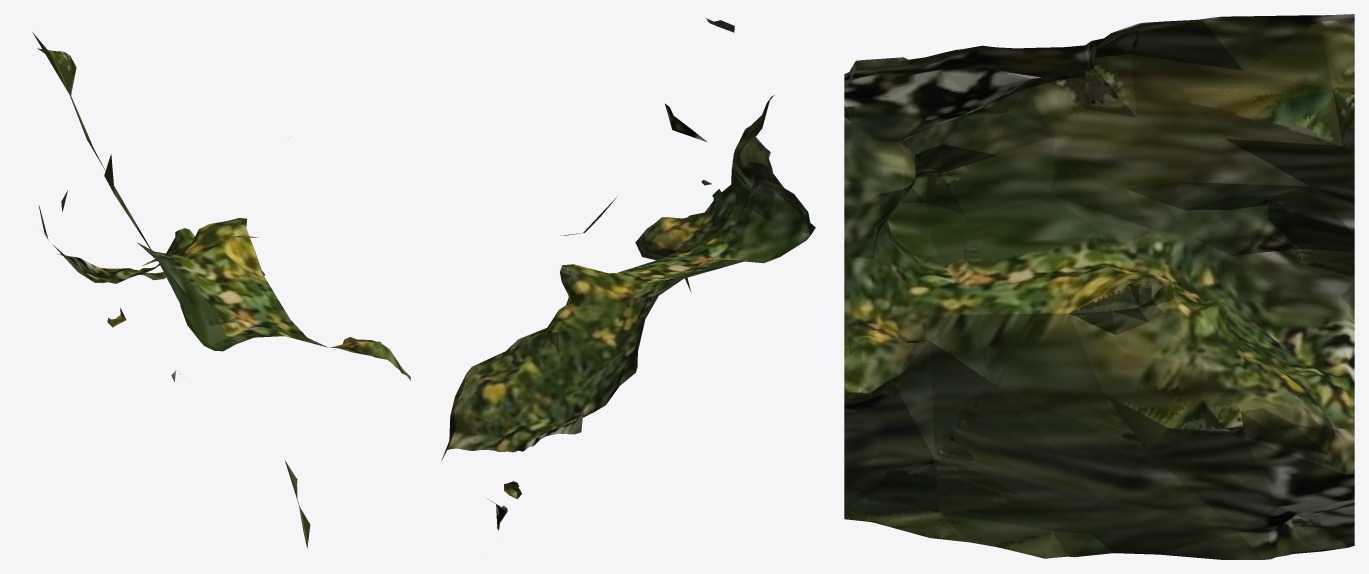
3 views of the same model, side by side, from view 1: azimuth 30°, elevation 25°; view 2: azimuth 150°, elevation 25°; view 3: azimuth 270°, elevation 25° (orthographic). The views are drawn at different scales.
Bounding box in the file's own units: 0.9702 × 1.67 × 1.67.
Materials: 3 (3 with a texture image).
